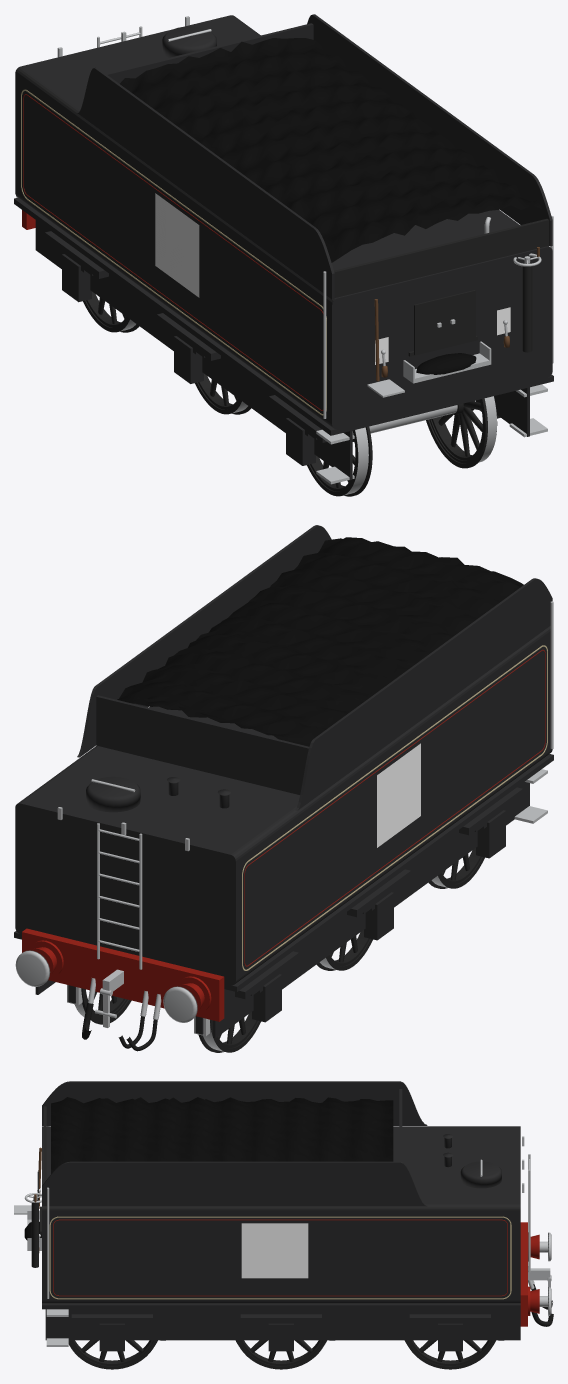
File: tender_lod0.glb
The picture shows the model from 3 angles, top to bottom: view 1: azimuth 30°, elevation 25°; view 2: azimuth 150°, elevation 25°; view 3: azimuth 270°, elevation 25°; orthographic projection. The views are drawn at different scales.
Parts seen in each view (by area): view 1: tender_static_paint_black, tender_static_coal, tender_static_smokebox, ws_t0_wheel, tender_static_decal_emblem, tender_static_steel, ws_t0_steel, ctl_coalDoors_door_R_smokebox, tender_static_lining, ctl_coalDoors_door_L_smokebox, tender_cab_static_steel, tender_static_lining_red (+4 smaller); view 2: tender_static_paint_black, tender_static_coal, tender_static_paint_red, tender_static_steel, tender_static_decal_emblem, ws_t2_wheel, tender_static_lining, tender_static_lining_red, ws_t1_wheel, ws_t0_wheel, tender_static_rubber; view 3: tender_static_paint_black, tender_static_coal, tender_static_decal_emblem_l, tender_static_lining, tender_static_steel, tender_static_lining_red, tender_static_paint_red, ws_t1_wheel, ws_t2_wheel, ws_t0_wheel, tender_cab_static_smokebox.
Boxes of the visible parts, x1,y1,x2,y2 form: tender_static_paint_black: (14,14,553,480); tender_static_coal: (120,38,541,262); tender_static_smokebox: (334,219,549,297); ws_t0_wheel: (307,397,497,496); tender_static_decal_emblem: (155,193,199,297); tender_static_steel: (16,16,553,484); ws_t0_steel: (344,396,496,495); ctl_coalDoors_door_R_smokebox: (414,297,445,354); tender_static_lining: (21,89,326,415); ctl_coalDoors_door_L_smokebox: (445,290,475,347); tender_cab_static_steel: (367,341,491,397); tender_static_lining_red: (23,94,323,410); tender_static_paint_black: (14,525,553,1038); tender_static_coal: (117,537,523,746); tender_static_paint_red: (22,928,224,1021); tender_static_steel: (15,601,553,1036); tender_static_decal_emblem: (377,743,420,847); ws_t2_wheel: (81,988,260,1052); tender_static_lining: (242,645,547,970); tender_static_lining_red: (244,649,545,966); ws_t1_wheel: (316,930,372,970); ws_t0_wheel: (428,848,484,888); tender_static_rubber: (82,1002,157,1051); tender_static_paint_black: (42,1081,520,1351); tender_static_coal: (51,1097,393,1173); tender_static_decal_emblem_l: (241,1223,308,1278); tender_static_lining: (49,1216,511,1299); tender_static_steel: (46,1126,551,1346); tender_static_lining_red: (53,1219,507,1296); tender_static_paint_red: (520,1222,539,1326); ws_t1_wheel: (235,1340,326,1369); ws_t2_wheel: (404,1340,495,1369); ws_t0_wheel: (68,1340,157,1369); tender_cab_static_smokebox: (31,1200,41,1267).
Bounding box in the file's own units: 2.71 × 3.34 × 7.3.
